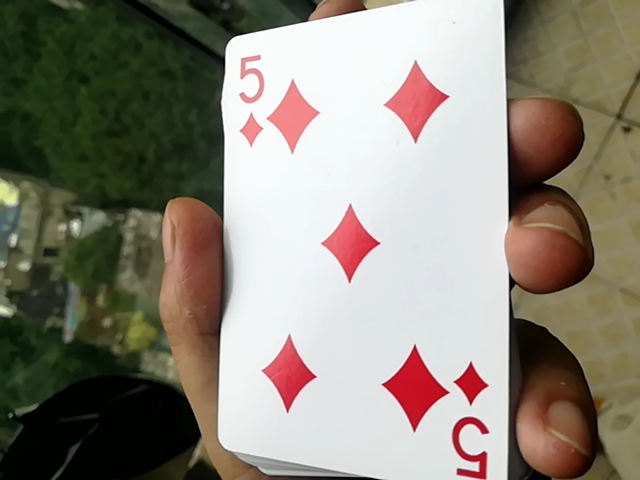fk 5: (200, 0, 506, 480)
